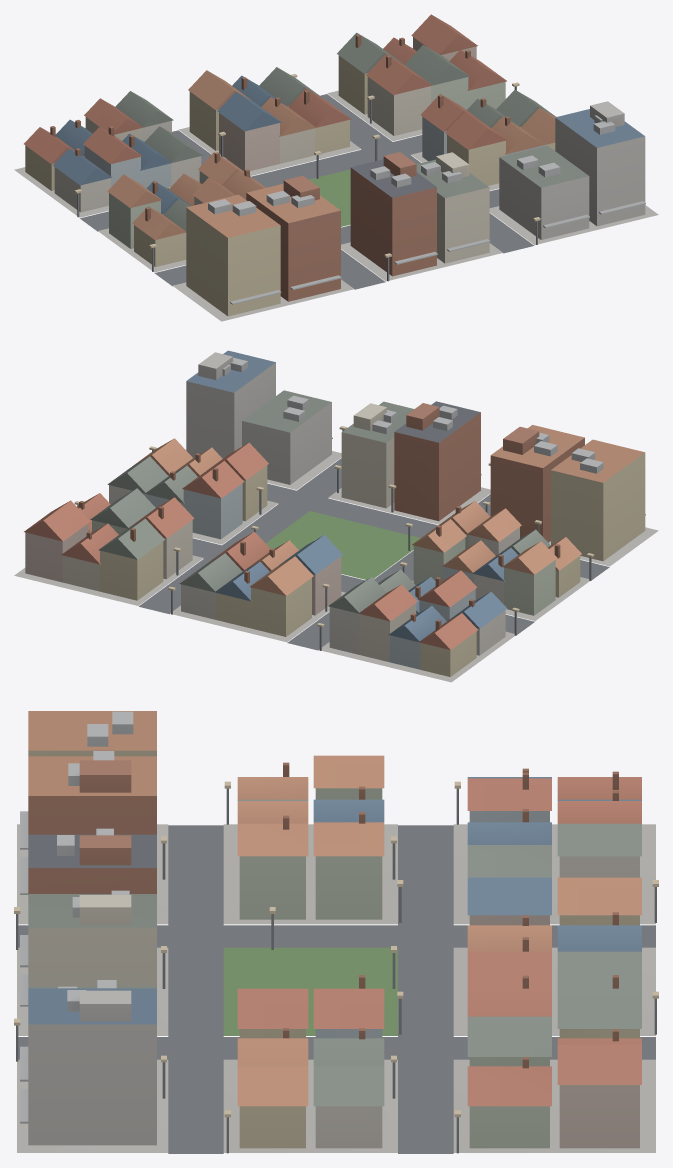
Rendered from district_riverside.glb.
The picture shows the model from 3 angles, top to bottom: view 1: azimuth 30°, elevation 25°; view 2: azimuth 150°, elevation 25°; view 3: azimuth 270°, elevation 25°; orthographic projection. The views are drawn at different scales.
Visible parts, largest first — view 1: district_riverside; view 2: district_riverside; view 3: district_riverside.
Part boxes in pixels (x1,y1,x2,y2): district_riverside: (14,14,658,321); district_riverside: (14,350,658,682); district_riverside: (14,711,658,1153).
Bounding box in the file's own units: 113 × 22.15 × 92.9.
